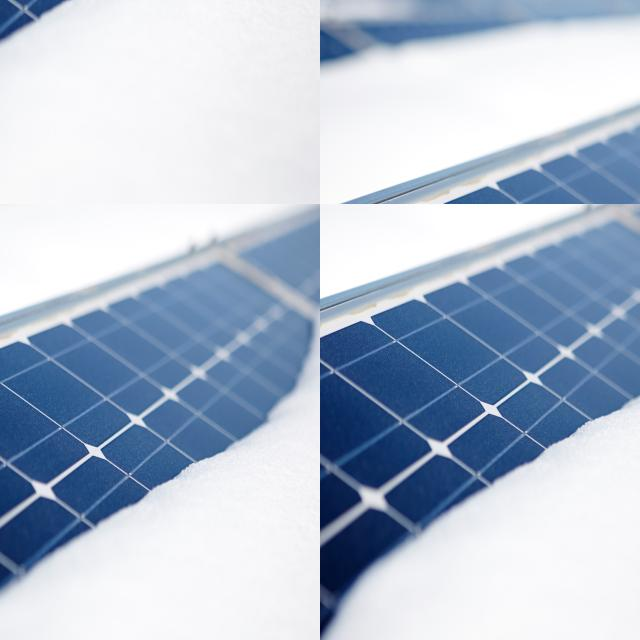crack: (0, 204, 48, 267), (0, 204, 45, 267), (0, 204, 30, 226), (0, 204, 29, 225), (0, 204, 22, 229)
dust: (0, 0, 18, 32), (0, 0, 12, 39), (0, 0, 15, 26), (0, 0, 13, 30), (0, 0, 12, 24), (0, 0, 19, 15), (0, 0, 17, 15), (0, 0, 15, 17), (0, 0, 11, 20), (0, 0, 14, 15), (0, 0, 10, 20), (0, 0, 10, 18), (0, 0, 9, 19), (0, 0, 11, 14), (0, 0, 9, 17), (0, 0, 9, 15), (0, 0, 6, 8)
panel: (486, 356, 636, 556), (320, 462, 452, 640), (382, 492, 560, 622), (320, 209, 427, 325), (430, 204, 640, 245), (575, 379, 640, 494), (320, 255, 384, 350), (344, 74, 386, 105), (320, 75, 339, 104), (320, 80, 340, 105), (320, 52, 332, 76), (320, 31, 331, 50)
